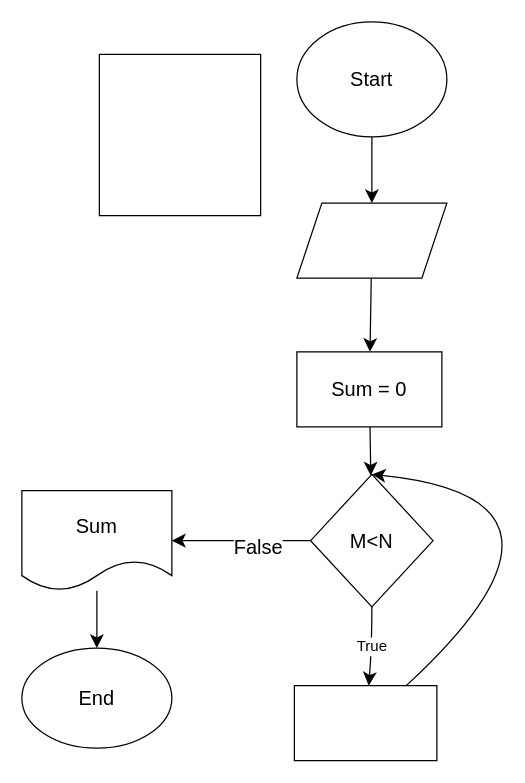
The diagram is 525 pixels wide and 783 high, and some of its shapes have lost their labels. Here are the shapes that lost their labels. From the top down, the centre of each, then its label:
[179,134]: Verilmiş M ədədindən verilmiş N ədədinə qədər ədədlərin cəmini tapan alqoritm
[371,240]: M,N
[365,722]: Sum += M M++
